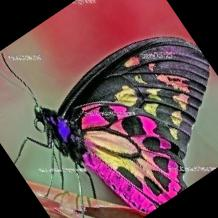butterfly: (34, 36, 209, 214)
